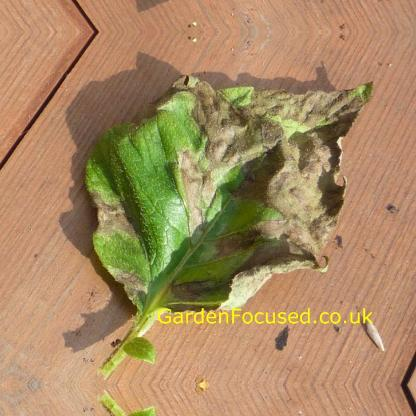Early-Blight: (86, 79, 371, 374)
